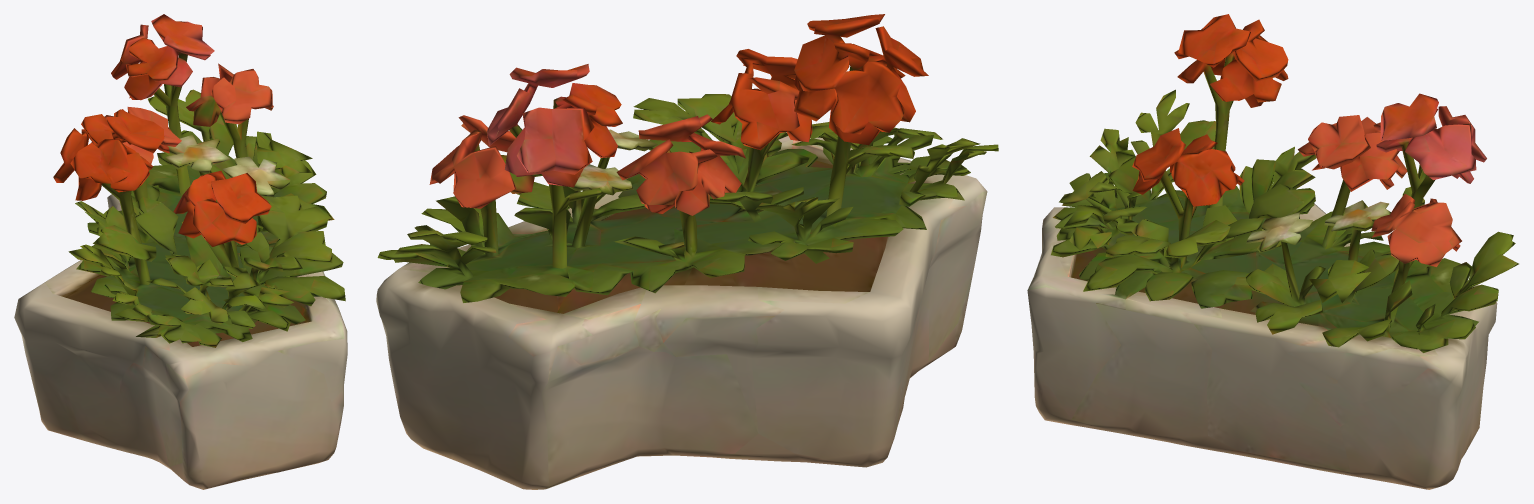
File: planter.glb
3 views of the same model, side by side, from view 1: azimuth 30°, elevation 25°; view 2: azimuth 150°, elevation 25°; view 3: azimuth 270°, elevation 25° (orthographic). The views are drawn at different scales.
Visible parts, largest first — view 1: tripo_node_208596a9-d4ae-4dc1-8155-62c917d7c5aa; view 2: tripo_node_208596a9-d4ae-4dc1-8155-62c917d7c5aa; view 3: tripo_node_208596a9-d4ae-4dc1-8155-62c917d7c5aa.
Boxes of the visible parts, bbox=[...] form: tripo_node_208596a9-d4ae-4dc1-8155-62c917d7c5aa: bbox=[14, 14, 347, 489]; tripo_node_208596a9-d4ae-4dc1-8155-62c917d7c5aa: bbox=[376, 14, 998, 489]; tripo_node_208596a9-d4ae-4dc1-8155-62c917d7c5aa: bbox=[1027, 14, 1518, 489].
Bounding box in the file's own units: 0.8566 × 0.7739 × 1.
1 material, 1 textured.
